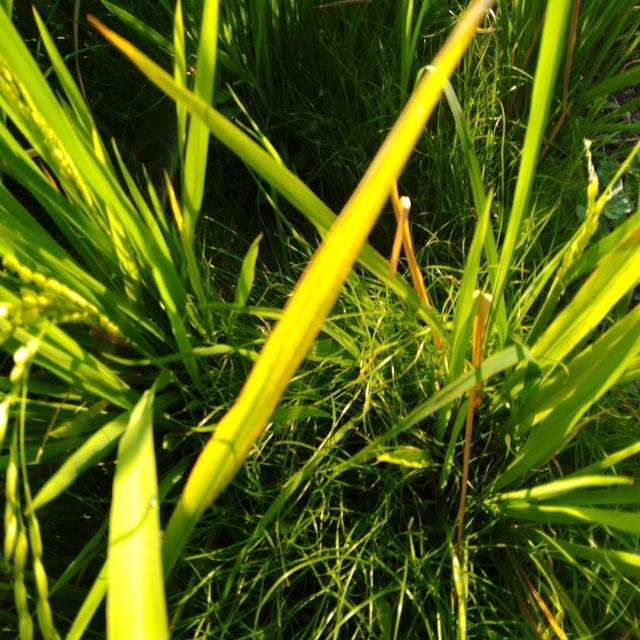Brown spot: (378, 195, 454, 348)
